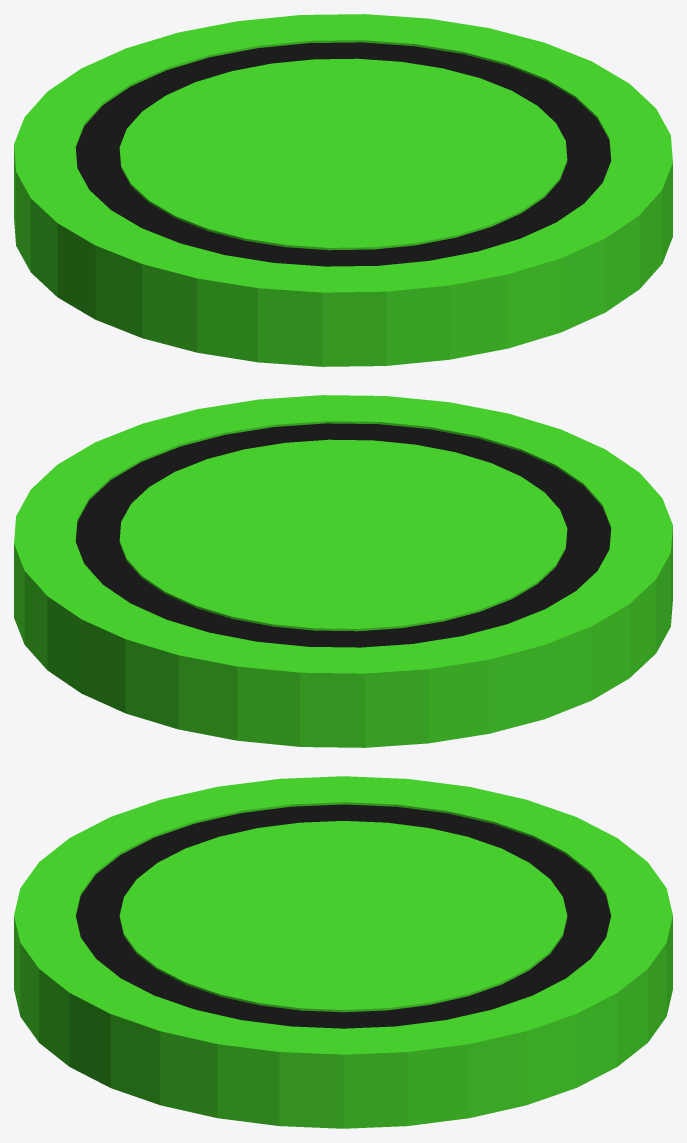
Rendered from testingmap.fbx.
3 views of the same model, one above another, from view 1: azimuth 30°, elevation 25°; view 2: azimuth 150°, elevation 25°; view 3: azimuth 270°, elevation 25° (orthographic).
Visible parts, largest first — view 1: Cylinder.002, Cylinder.001, Cylinder; view 2: Cylinder.002, Cylinder.001, Cylinder; view 3: Cylinder.002, Cylinder.001, Cylinder.
Boxes of the visible parts, bbox=[...] form: Cylinder.002: bbox=[14, 14, 672, 366]; Cylinder.001: bbox=[119, 58, 567, 250]; Cylinder: bbox=[76, 42, 610, 266]; Cylinder.002: bbox=[14, 395, 672, 747]; Cylinder.001: bbox=[119, 439, 567, 631]; Cylinder: bbox=[76, 423, 610, 647]; Cylinder.002: bbox=[14, 776, 672, 1128]; Cylinder.001: bbox=[119, 821, 567, 1012]; Cylinder: bbox=[76, 804, 610, 1028].
Bounding box in the file's own units: 30245 × 3752 × 30245.
